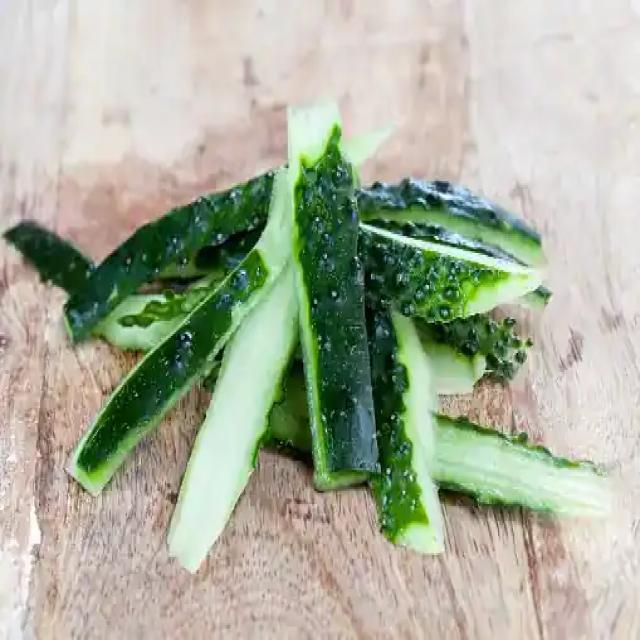Wet: (64, 182, 328, 503), (166, 164, 322, 574), (287, 101, 379, 492), (345, 289, 449, 556), (423, 410, 609, 540)
